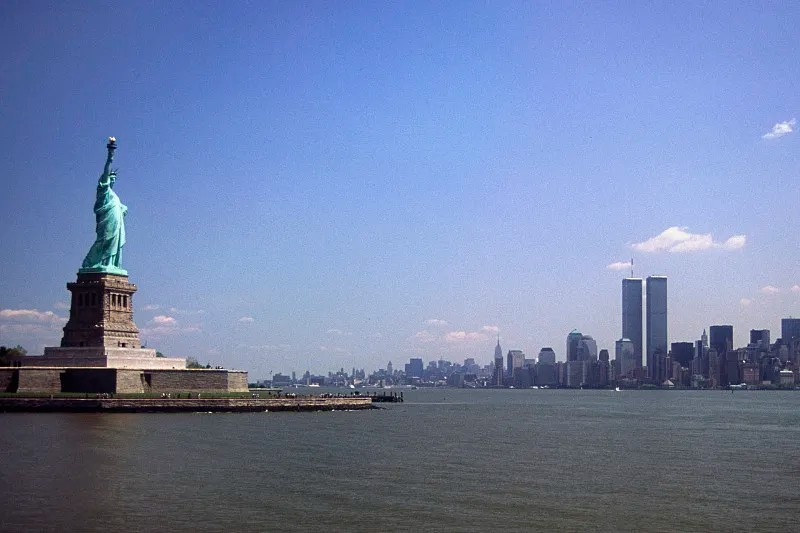SL: (61, 136, 141, 347)
